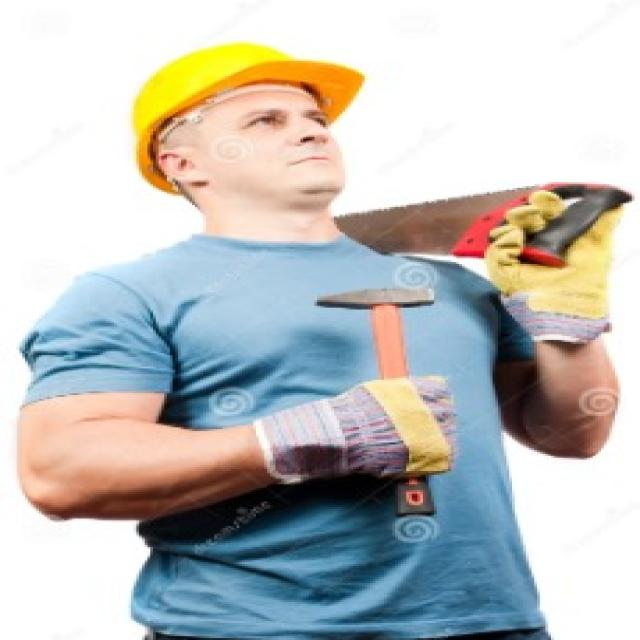gloved: (481, 180, 632, 344), (250, 374, 457, 484)
